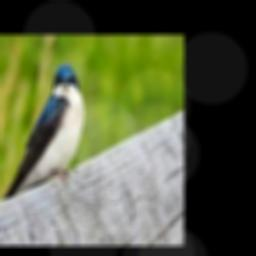Swallow: (3, 64, 84, 200)
